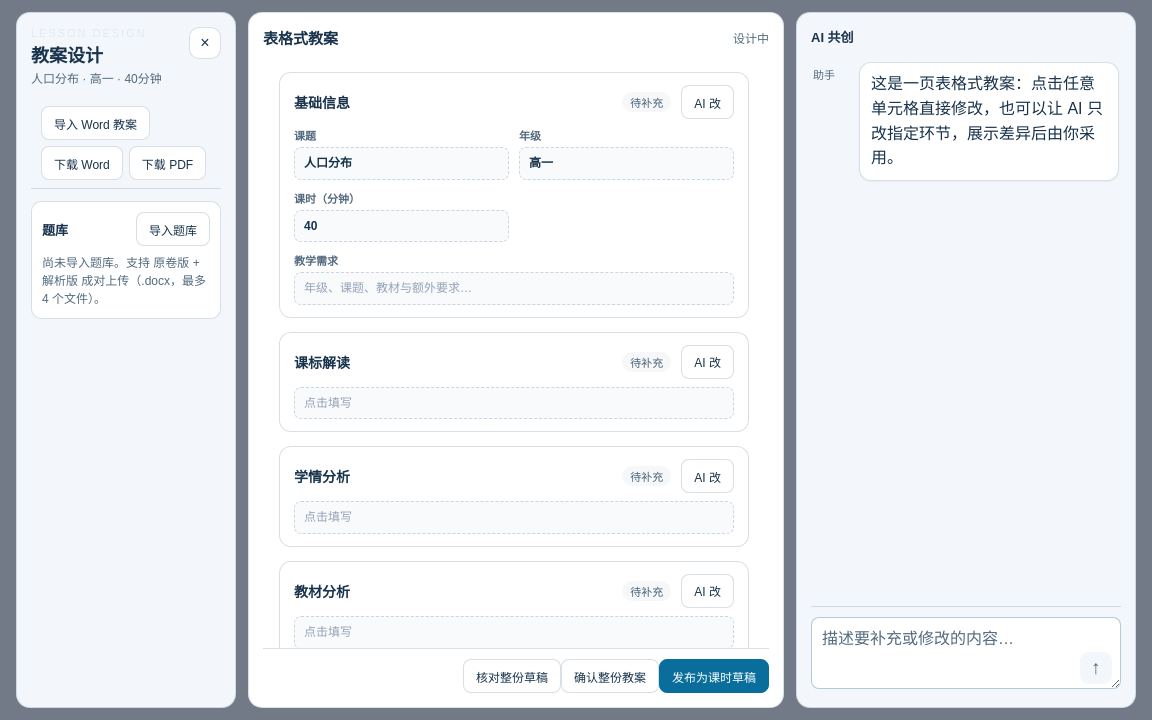
it: LessonDesignWorkspace（一页表格式教案） › runs the rehearsal check and shows the report
Click the button with test id "ldw-run-rehearsal": (512, 676) [463,659,561,693]
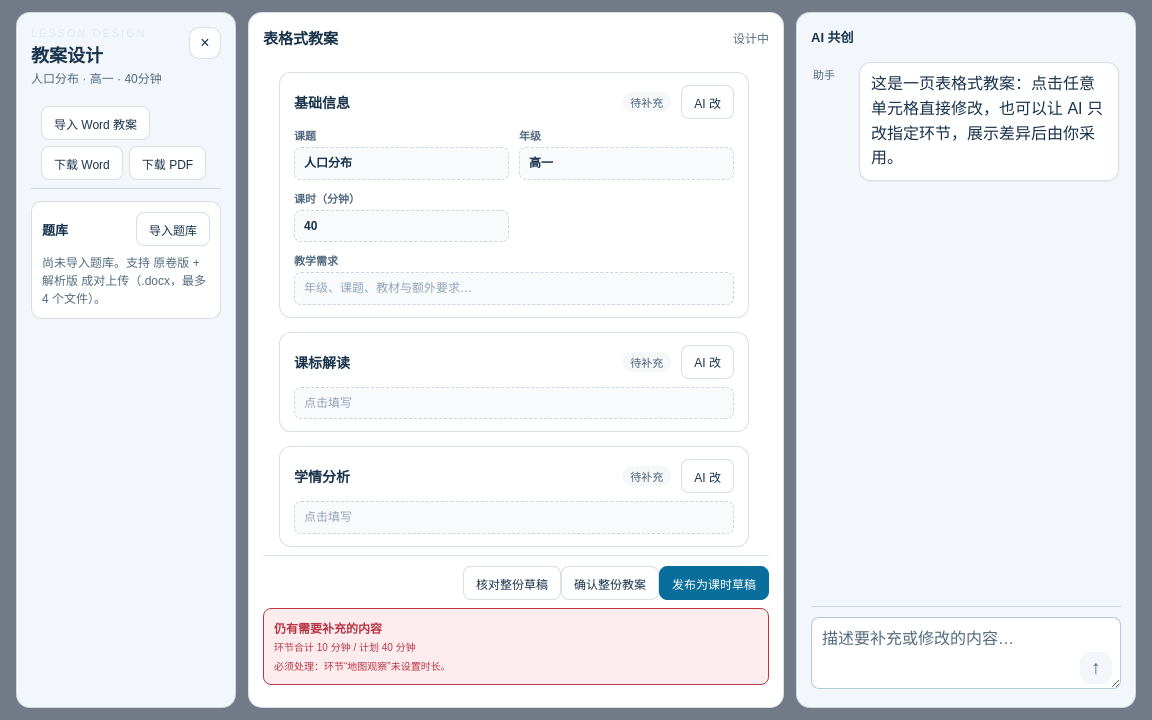
Expected: the message with test id "ldw-rehearsal-report" shows "未设置时长", [324,661,451,672]
